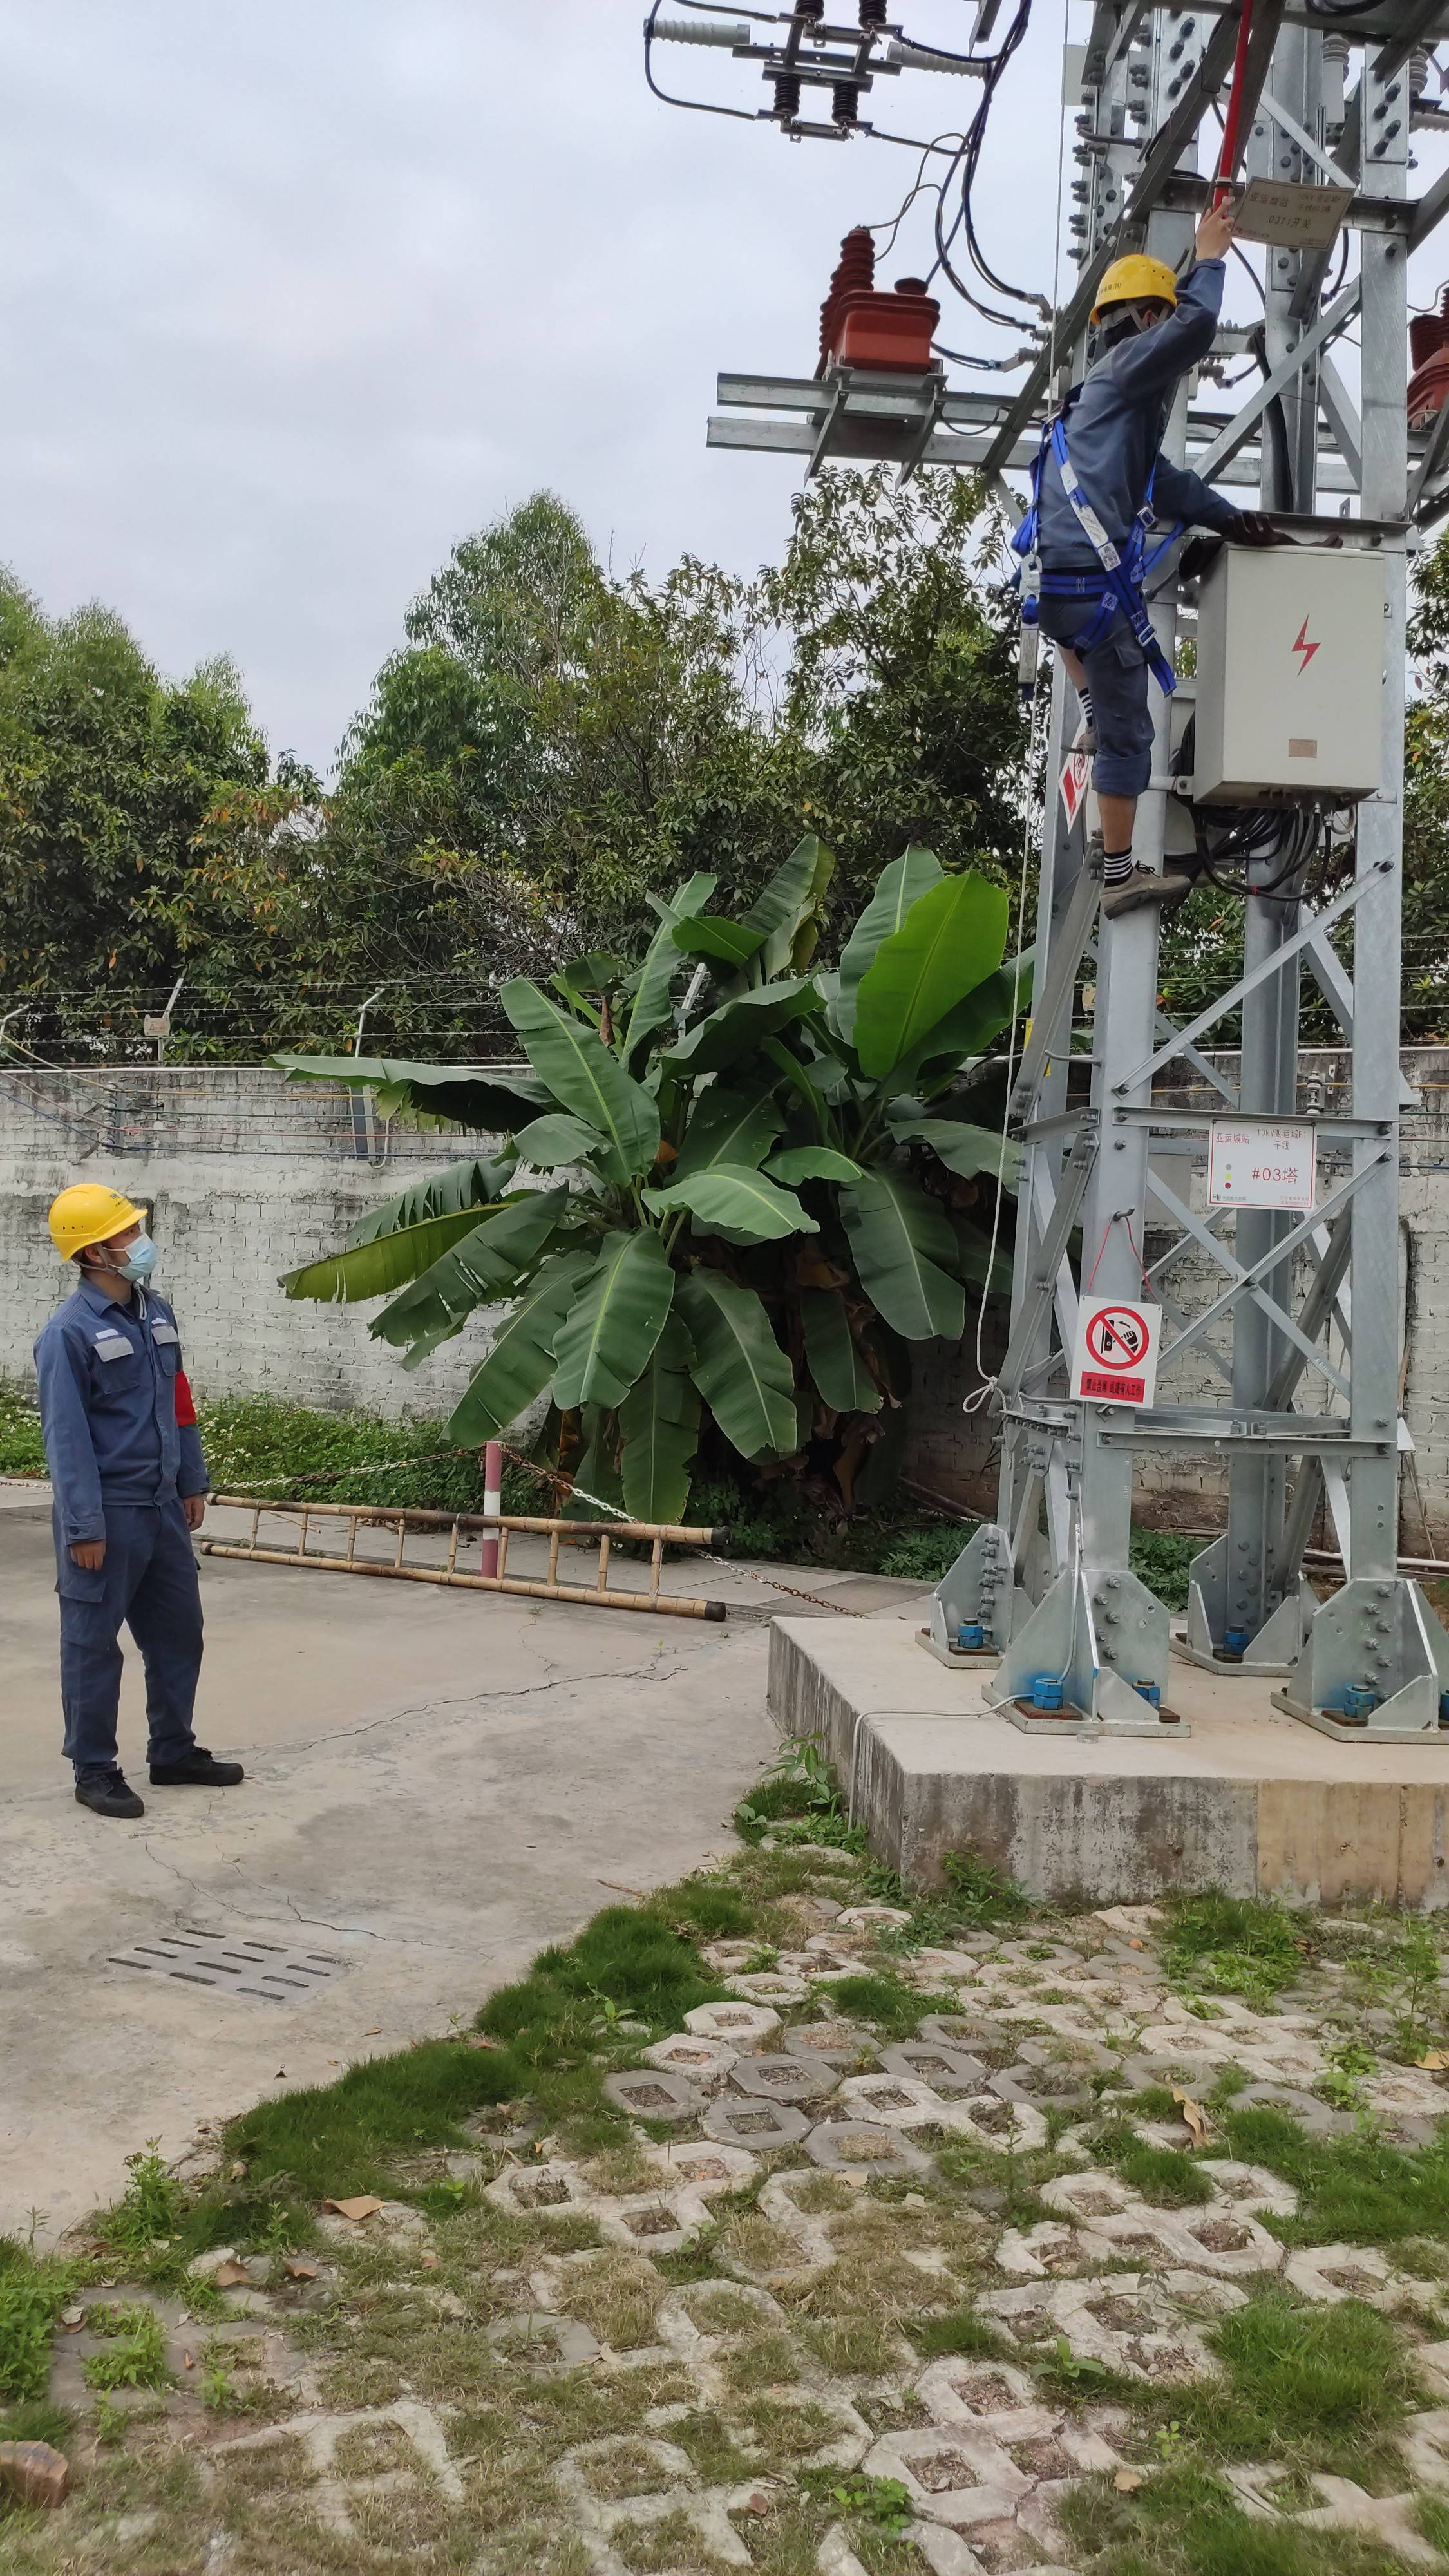downsuit: (74, 1504, 211, 1760), (1037, 589, 1164, 800)
upsuit: (1017, 262, 1226, 579), (37, 1288, 214, 1546)
wrongbottom: (1081, 764, 1155, 883), (1054, 626, 1092, 697)
